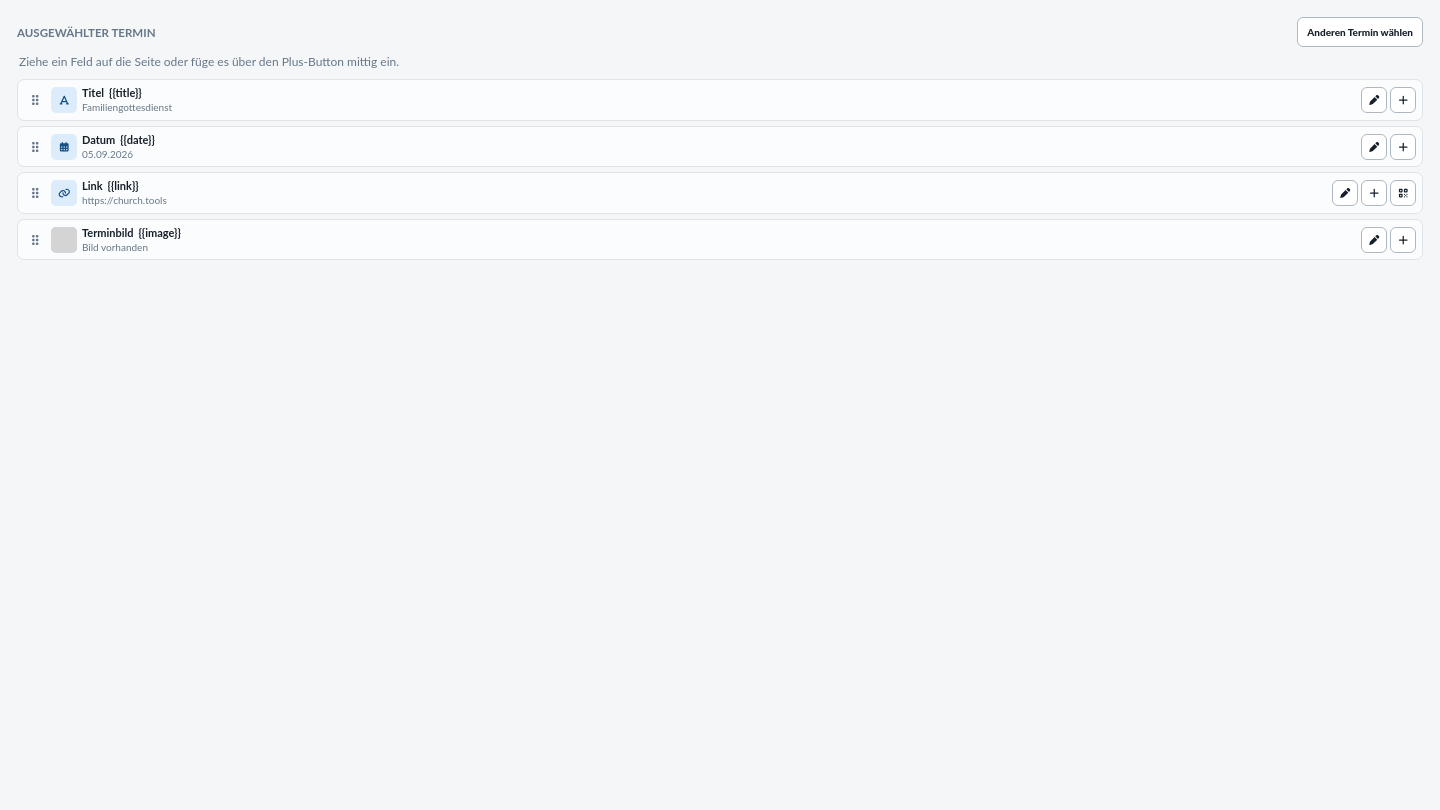
Test case: AppointmentDataInspector › keeps image replacement and focus controls out of the compact list
The width and height of the screenshot is (1440, 810).
Step 1. Click the button named "Terminbild bearbeiten" → [1374, 240], box 1361,227 -> 1387,253
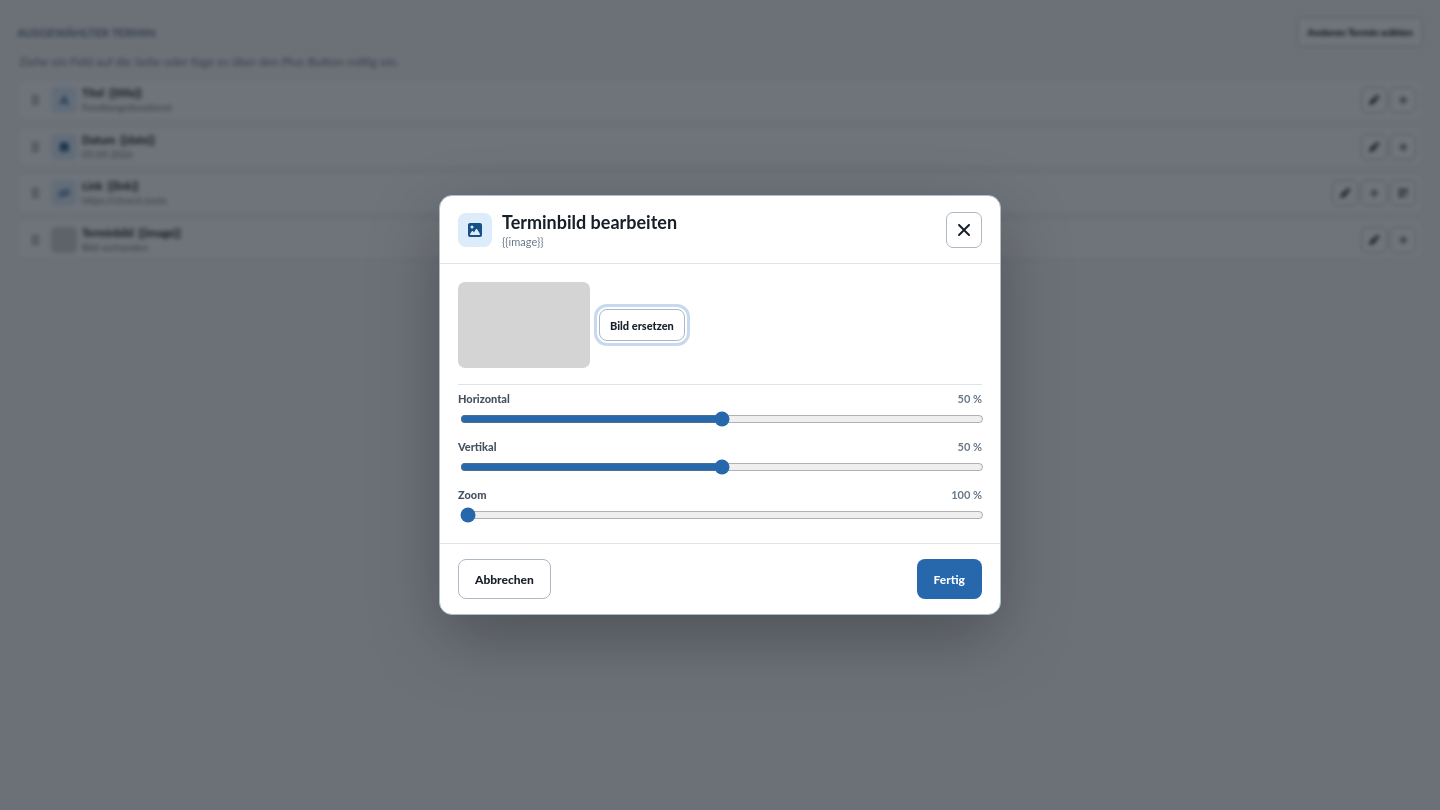
Expected: the number of sliders is 3, 460,411 -> 984,427; 460,459 -> 984,475; 460,507 -> 984,523
